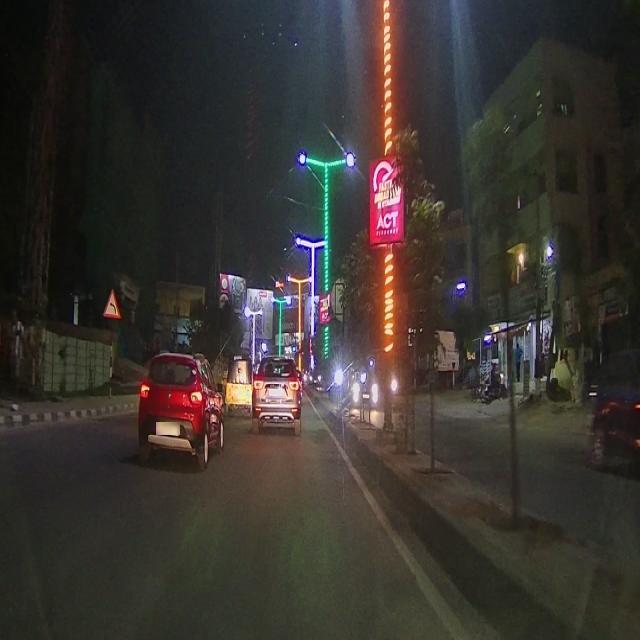left-hand-curve: (105, 288, 118, 318)
